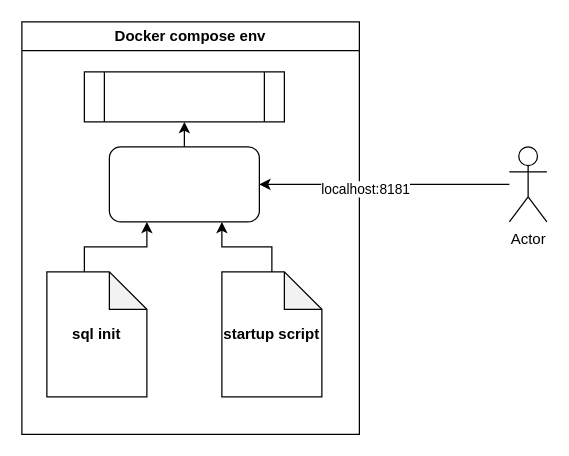
This 569x456 diagram has some shape labels left out. The centre of each missing label's shape, as x and y in pixels:
"cockroachdb" belongs at (183,184).
"Docker compose local network 172.24.24.0/24" belongs at (183,96).
